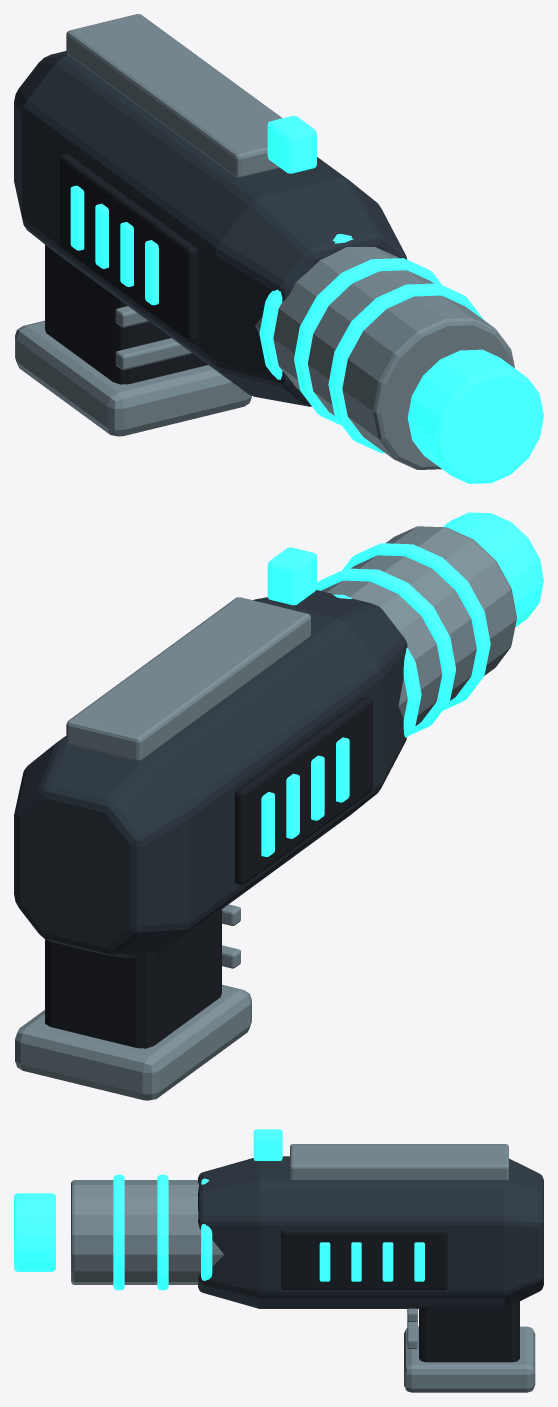
Rendered from static.glb.
3 views of the same model, one above another, from view 1: azimuth 30°, elevation 25°; view 2: azimuth 150°, elevation 25°; view 3: azimuth 270°, elevation 25° (orthographic). The views are drawn at different scales.
Parts seen in each view (by area): view 1: static_recoil_Skin_Carbon_Ceramic, static_recoil_Skin_Brushed_Titanium, static_recoil_Skin_Static_Mint, PRP_static_Skin_Brushed_Titanium, static_recoil_Skin_Grip_Rubber, PRP_static_Skin_Grip_Rubber; view 2: static_recoil_Skin_Carbon_Ceramic, static_recoil_Skin_Brushed_Titanium, static_recoil_Skin_Static_Mint, PRP_static_Skin_Grip_Rubber, PRP_static_Skin_Brushed_Titanium, static_recoil_Skin_Grip_Rubber; view 3: static_recoil_Skin_Carbon_Ceramic, static_recoil_Skin_Brushed_Titanium, static_recoil_Skin_Static_Mint, static_recoil_Skin_Grip_Rubber, PRP_static_Skin_Grip_Rubber, PRP_static_Skin_Brushed_Titanium.
Boxes of the visible parts, <box> form: static_recoil_Skin_Carbon_Ceramic: <box>14,51,407,406</box>; static_recoil_Skin_Brushed_Titanium: <box>66,14,514,469</box>; static_recoil_Skin_Static_Mint: <box>70,115,543,483</box>; PRP_static_Skin_Brushed_Titanium: <box>15,306,251,436</box>; static_recoil_Skin_Grip_Rubber: <box>59,154,197,341</box>; PRP_static_Skin_Grip_Rubber: <box>45,245,207,384</box>; static_recoil_Skin_Carbon_Ceramic: <box>14,590,407,957</box>; static_recoil_Skin_Brushed_Titanium: <box>66,526,516,761</box>; static_recoil_Skin_Static_Mint: <box>261,512,543,856</box>; PRP_static_Skin_Grip_Rubber: <box>45,909,221,1048</box>; PRP_static_Skin_Brushed_Titanium: <box>15,904,251,1100</box>; static_recoil_Skin_Grip_Rubber: <box>235,697,372,884</box>; static_recoil_Skin_Carbon_Ceramic: <box>198,1156,543,1308</box>; static_recoil_Skin_Brushed_Titanium: <box>71,1144,508,1284</box>; static_recoil_Skin_Static_Mint: <box>14,1129,424,1290</box>; static_recoil_Skin_Grip_Rubber: <box>281,1229,447,1289</box>; PRP_static_Skin_Grip_Rubber: <box>419,1300,519,1362</box>; PRP_static_Skin_Brushed_Titanium: <box>404,1308,535,1392</box>.
Bounding box in the file's own units: 0.166 × 0.303 × 0.605.
